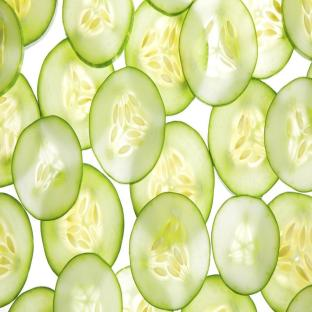Cucumber: (130, 193, 210, 310), (41, 164, 123, 275), (90, 67, 165, 183), (130, 122, 214, 221), (208, 79, 278, 196), (38, 40, 113, 149), (180, 0, 257, 105), (126, 1, 193, 115), (12, 116, 82, 220), (212, 196, 279, 294), (262, 193, 311, 311), (265, 78, 311, 192), (0, 75, 40, 186), (54, 254, 122, 311), (0, 194, 33, 307), (182, 275, 256, 311), (117, 267, 164, 311), (9, 287, 54, 311), (287, 286, 311, 311), (307, 65, 311, 77)
